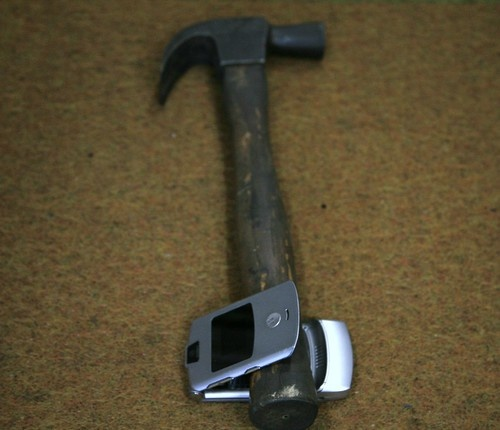hammer: (145, 11, 340, 418)
